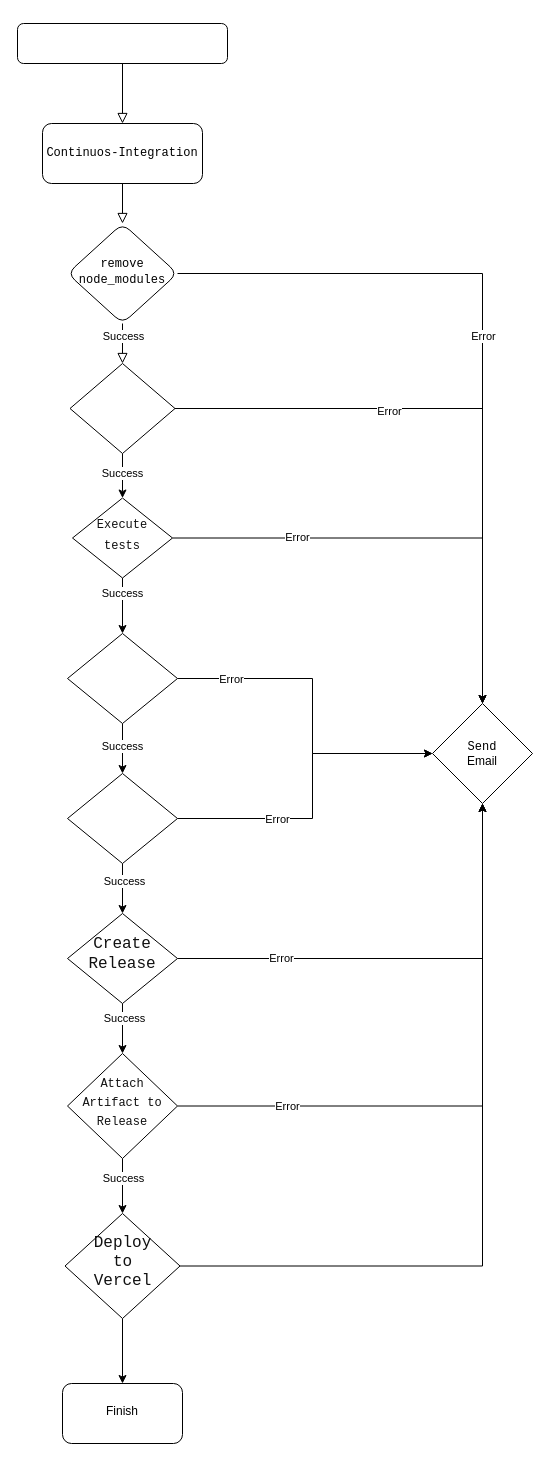
Some shapes in this 550 by 1461 pixel diagram are drawn without their labels. The box of each missing label's shape, as (x1, y1, x2, y2) in pixels:
Build project: (66, 772, 178, 864)
Execute build: (66, 632, 178, 724)
GitHub Push (Branch: master or tag: v*): (16, 22, 228, 64)
Install Dependencies: (69, 362, 175, 454)
